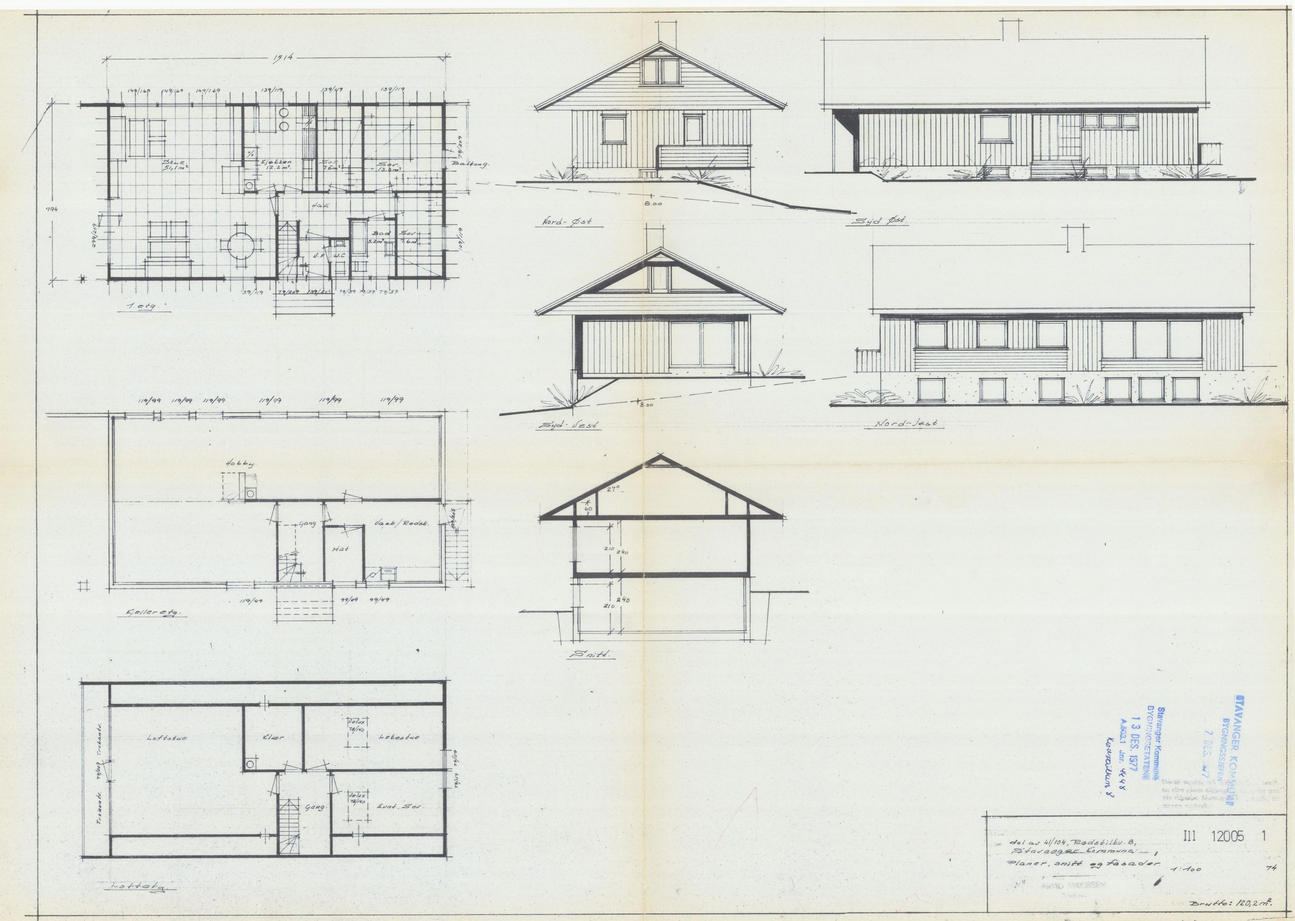fasade: (855, 228, 1250, 406), (824, 21, 1221, 182), (534, 230, 787, 407), (535, 21, 788, 196)
plantegning: (80, 103, 446, 313), (107, 411, 469, 619), (80, 681, 448, 859)
snitt: (540, 455, 784, 641)
